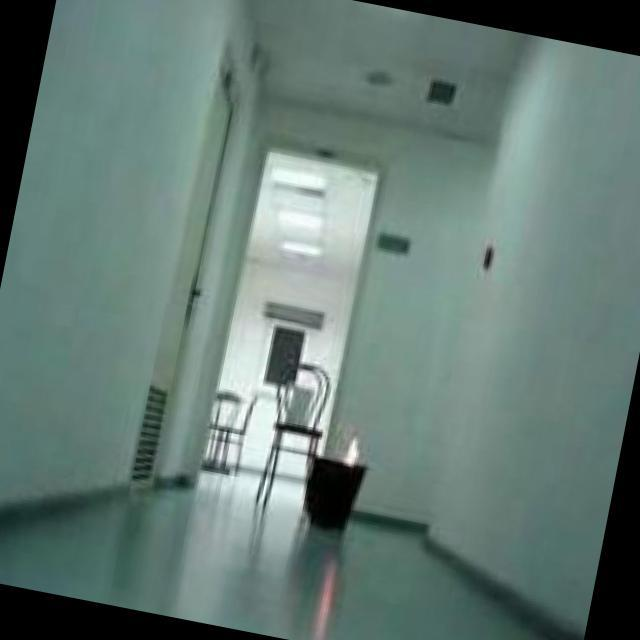Fire: (347, 433, 363, 468)
